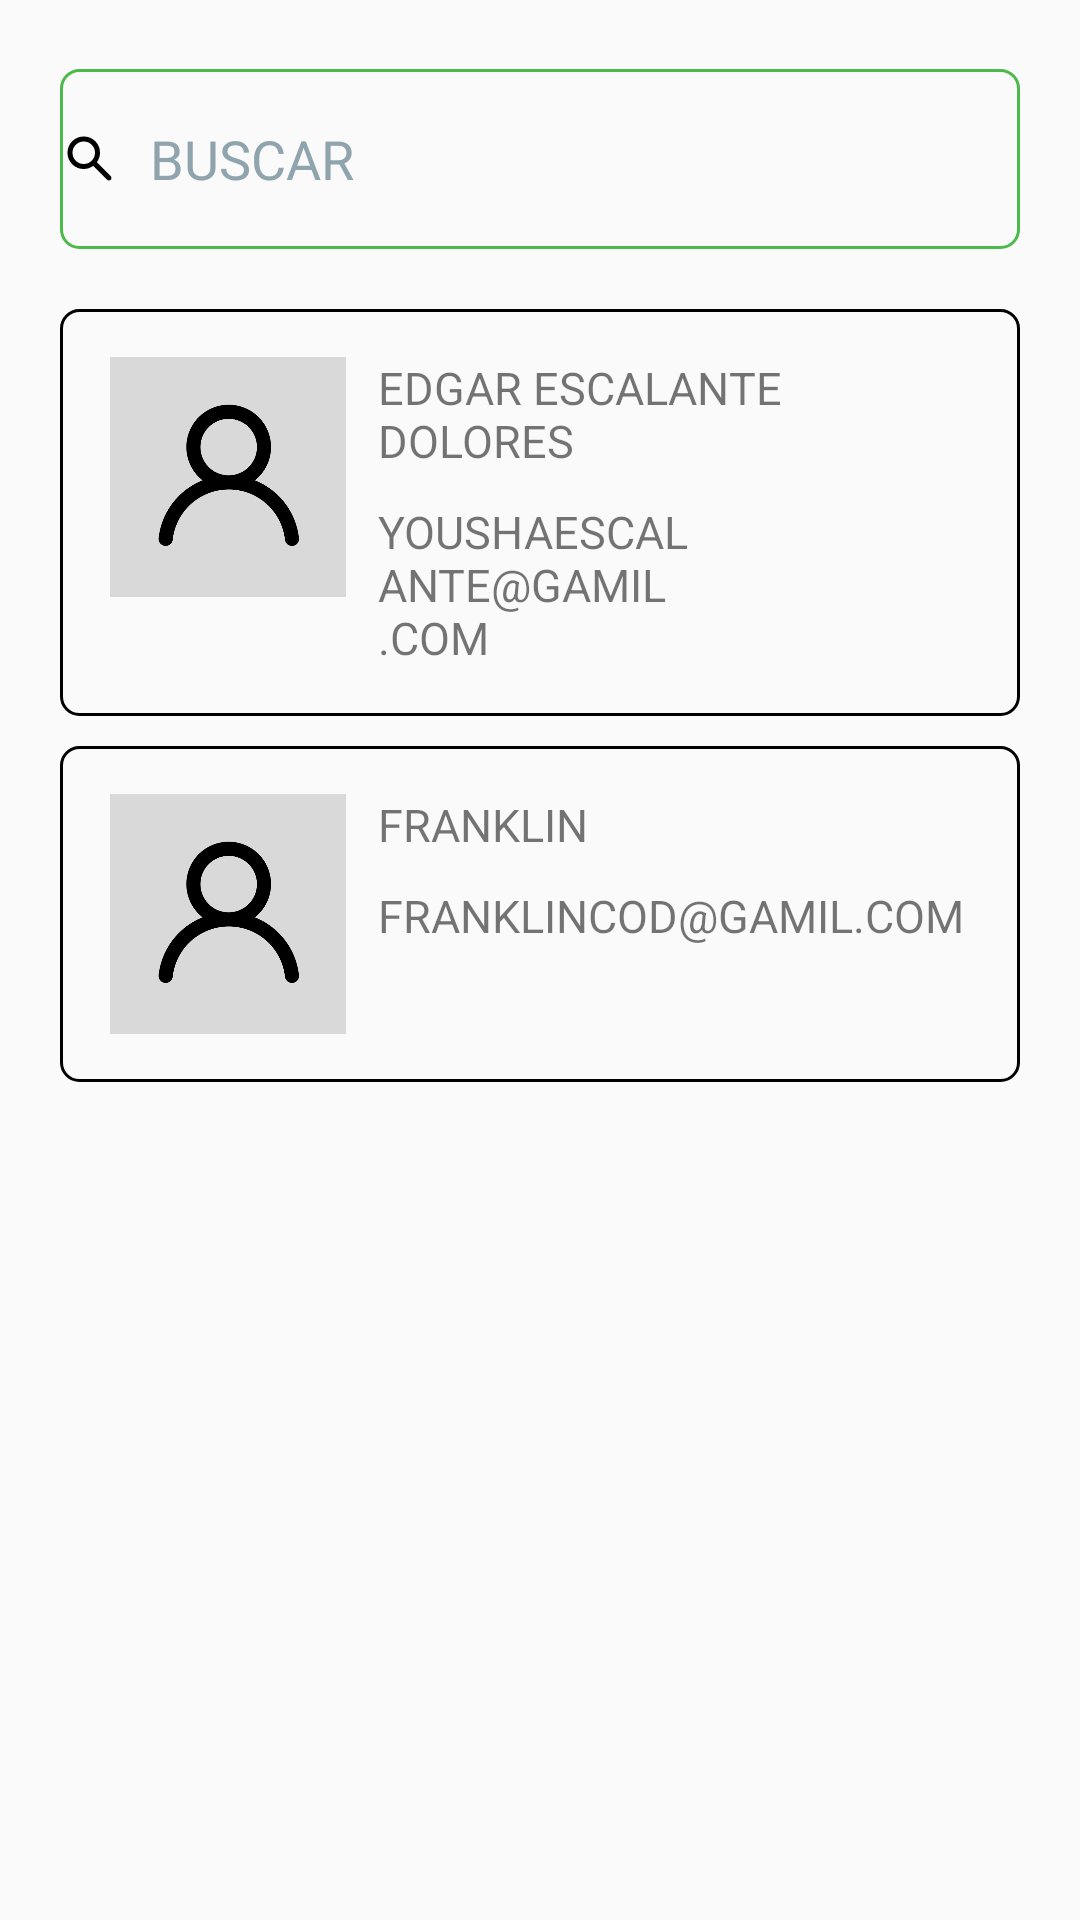

Point at icon controls on the screen. Image size 1080 × 1920, points as (x,y).
usuario: (228,477), (228,914)
